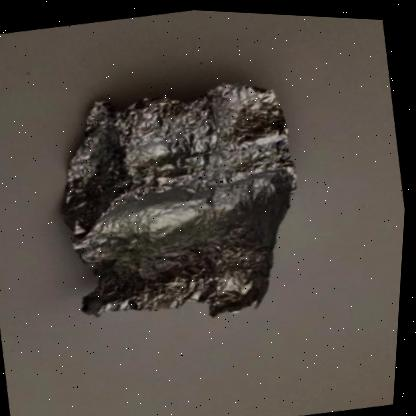Metal: (62, 80, 296, 314)
